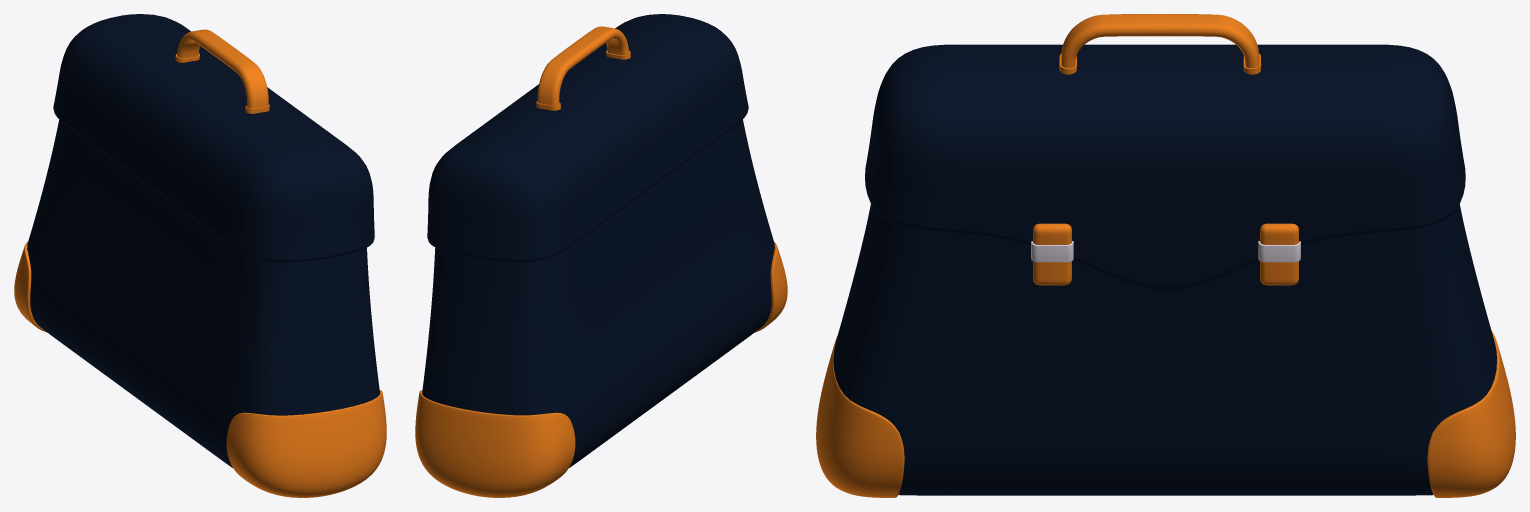
3 views of the same model, side by side, from view 1: azimuth 30°, elevation 25°; view 2: azimuth 150°, elevation 25°; view 3: azimuth 270°, elevation 25° (orthographic). The views are drawn at different scales.
Parts seen in each view (by area): view 1: Cube.026, Cube.027, Cube.030, Plane.015; view 2: Cube.026, Cube.027, Cube.030, Plane.015; view 3: Cube.026, Cube.027, Cube.030, Plane.015, Cube.028, Cube.029.
Boxes of the visible parts, x1,y1,x2,y2 form: Cube.026: [27, 120, 379, 467]; Cube.027: [53, 14, 374, 262]; Cube.030: [14, 241, 386, 497]; Plane.015: [175, 29, 269, 113]; Cube.026: [422, 119, 774, 467]; Cube.027: [427, 14, 748, 262]; Cube.030: [415, 242, 787, 497]; Plane.015: [536, 26, 630, 110]; Cube.026: [833, 204, 1496, 495]; Cube.027: [865, 44, 1465, 289]; Cube.030: [816, 330, 1515, 497]; Plane.015: [1059, 14, 1261, 74]; Cube.028: [1033, 223, 1298, 285]; Cube.029: [1031, 241, 1300, 262].
Bounding box in the file's own units: 1.16 × 2.53 × 3.4.
